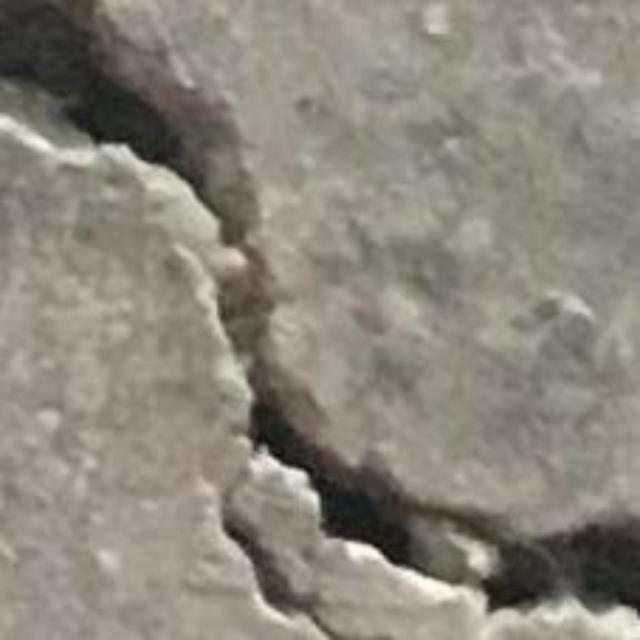crack: (0, 0, 639, 614)
